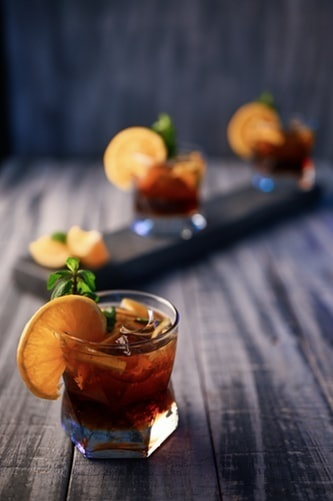whiskey: (56, 291, 174, 465)
